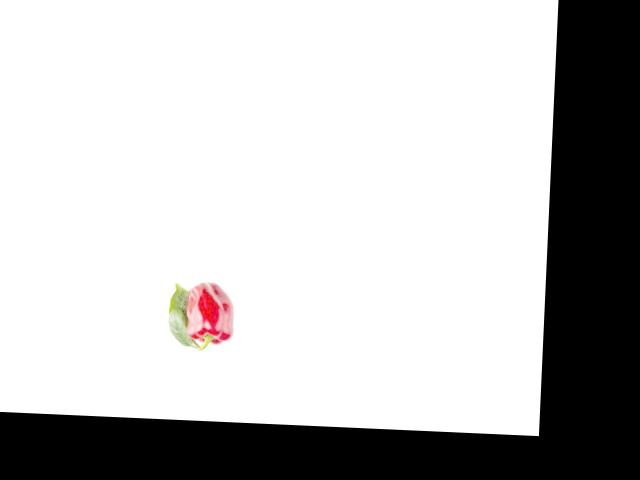bell_pepper: (181, 278, 241, 351)
